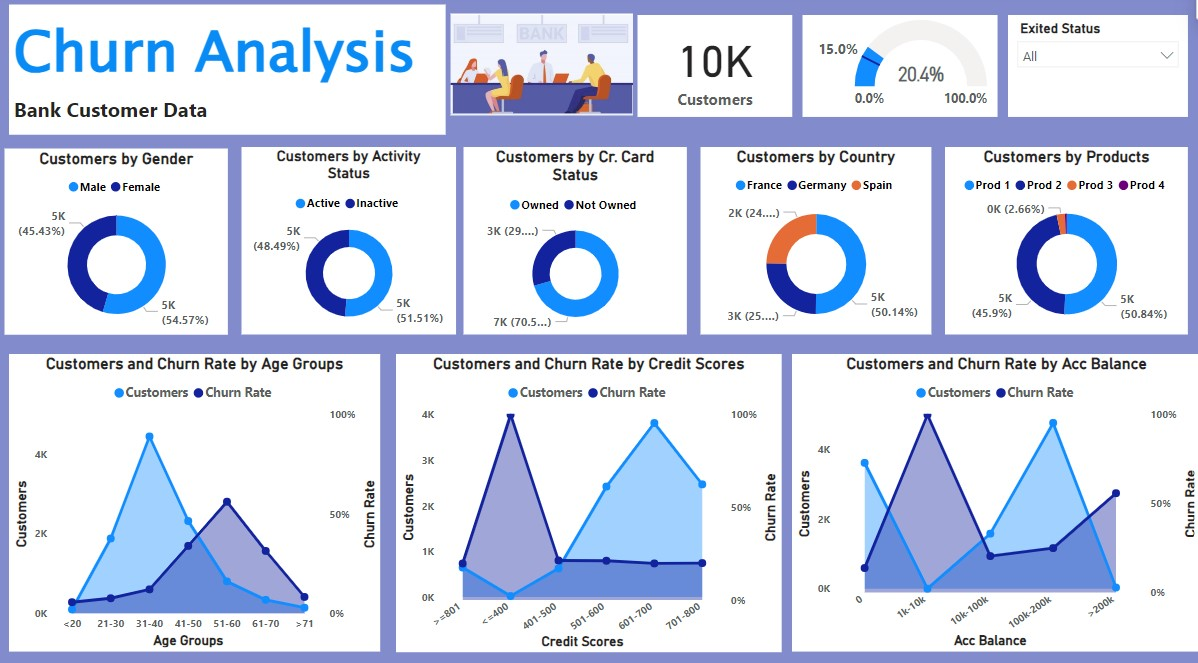

This screenshot's page, from the dashboard's own definition file:
{"tool":"powerbi","page":{"name":"Page 1","canvas":[1280,720],"ordinal":0},"visuals":[{"type":"card","fields":{"Values":["Customers Data.Customers"]},"box":[681.9,22.3,163.7,108.1],"z":0},{"type":"donutChart","fields":{"Category":["Customers Data.Gender"],"Y":["Customers Data.Customers"]},"box":[11.1,163.7,236.8,197.1],"z":1000},{"type":"donutChart","title":"Customers by Activity Status ","fields":{"Y":["Customers Data.Customers"],"Category":["Customers Data.Active Member"]},"box":[262.3,162.1,227.3,198.7],"z":2000},{"type":"donutChart","title":"Customers by Cr. Card Status","fields":{"Y":["Customers Data.Customers"],"Category":["Customers Data.Credit Card Status"]},"box":[497.5,162.1,236.8,198.7],"z":3000},{"type":"donutChart","title":"Customers by Country","fields":{"Y":["Customers Data.Customers"],"Category":["Customers Data.Geography"]},"box":[748.6,162.1,244.8,198.7],"z":4000},{"type":"donutChart","title":"Customers by Products","fields":{"Y":["Customers Data.Customers"],"Category":["Customers Data.Products"]},"box":[1007.7,162.1,257.5,198.7],"z":5000},{"type":"areaChart","fields":{"Category":["Age Groups.Age Groups"],"Y":["Customers Data.Customers"],"Y2":["Customers Data.Churn Rate"]},"box":[16.2,381.8,393.2,315.5],"z":6000},{"type":"areaChart","fields":{"Y":["Customers Data.Customers"],"Y2":["Customers Data.Churn Rate"],"Category":["Credit Score Groups.Credit Scores"]},"box":[426,381.5,408.5,316.3],"z":7000},{"type":"areaChart","fields":{"Y":["Customers Data.Customers"],"Y2":["Customers Data.Churn Rate"],"Category":["Acc Balance Groups.Acc Balance "]},"box":[846.2,381.8,433.6,315.5],"z":8000},{"type":"slicer","fields":{"Values":["Customers Data.Exited Status"]},"box":[1074.4,22.3,190.7,108.1],"z":9000},{"type":"gauge","fields":{"Y":["Customers Data.Churn Rate"],"MinValue":["Min(Customers Data.Min Churn Rate)"],"MaxValue":["Max(Customers Data.Max Churn Rate )"],"TargetValue":["Max(Customers Data.Target Churn Rate)"]},"box":[856.7,22.3,206.6,108.1],"z":10000},{"type":"textbox","box":[15.9,11.1,462.5,138.3],"z":11000},{"type":"image","box":[478.4,0,203.4,149.4],"z":12000}]}

Visuals, with their boxes in screenshot pixels (x1, y1, x2, y2), scaled from the page's 1280x720 canvas onto the 1198x663 screenshot:
card - Customers Data.Customers: bbox=(638, 21, 791, 120)
donutChart - Customers Data.Gender x Customers Data.Customers: bbox=(10, 151, 232, 332)
"Customers by Activity Status " donutChart: bbox=(245, 149, 458, 332)
"Customers by Cr. Card Status" donutChart: bbox=(466, 149, 687, 332)
"Customers by Country" donutChart: bbox=(701, 149, 930, 332)
"Customers by Products" donutChart: bbox=(943, 149, 1184, 332)
areaChart - Age Groups.Age Groups x Customers Data.Customers: bbox=(15, 352, 383, 642)
areaChart - Customers Data.Customers x Customers Data.Churn Rate: bbox=(399, 351, 781, 643)
areaChart - Customers Data.Customers x Customers Data.Churn Rate: bbox=(792, 352, 1197, 642)
slicer - Customers Data.Exited Status: bbox=(1006, 21, 1184, 120)
gauge - Customers Data.Churn Rate x Min(Customers Data.Min Churn Rate): bbox=(802, 21, 995, 120)
textbox: bbox=(15, 10, 448, 138)
image: bbox=(448, 0, 638, 138)
